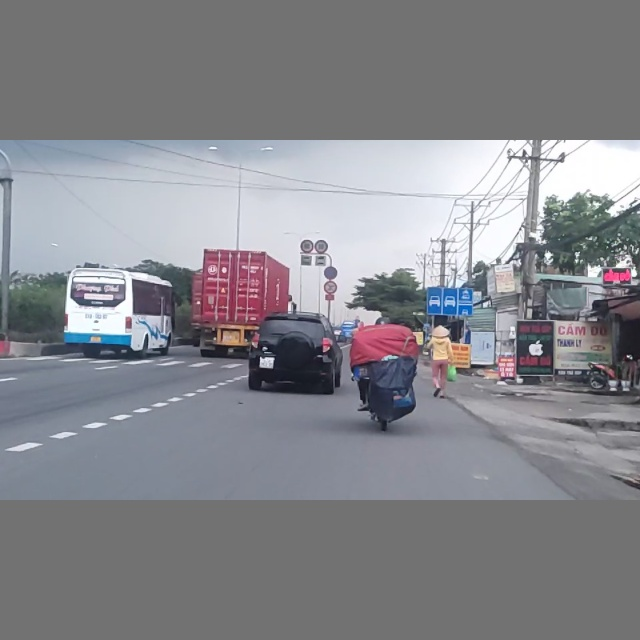P.111: (324, 281, 337, 294)
P.127*60: (315, 240, 328, 254)
P.127*80: (301, 239, 313, 253)
P.130: (323, 265, 338, 280)
R.415a: (427, 287, 474, 315)
